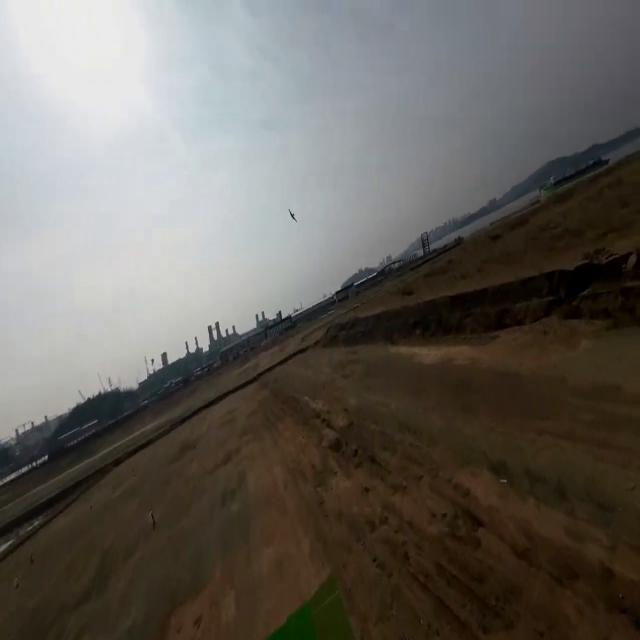iha: (279, 197, 310, 233)
